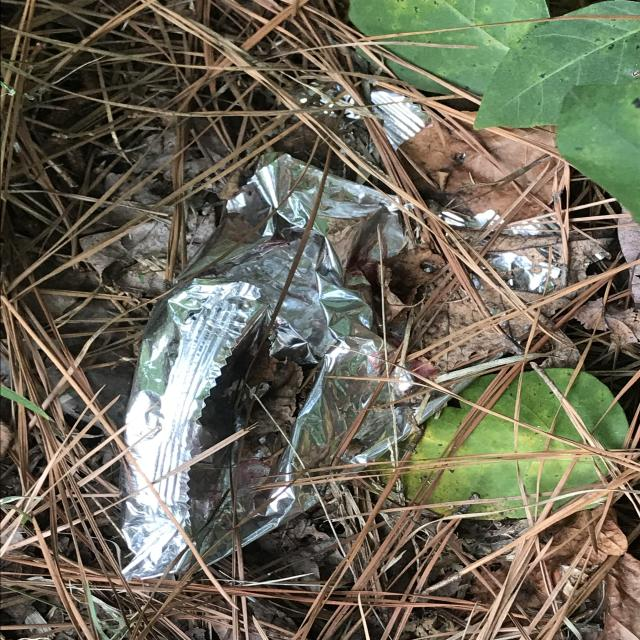litter: (101, 20, 640, 381)
